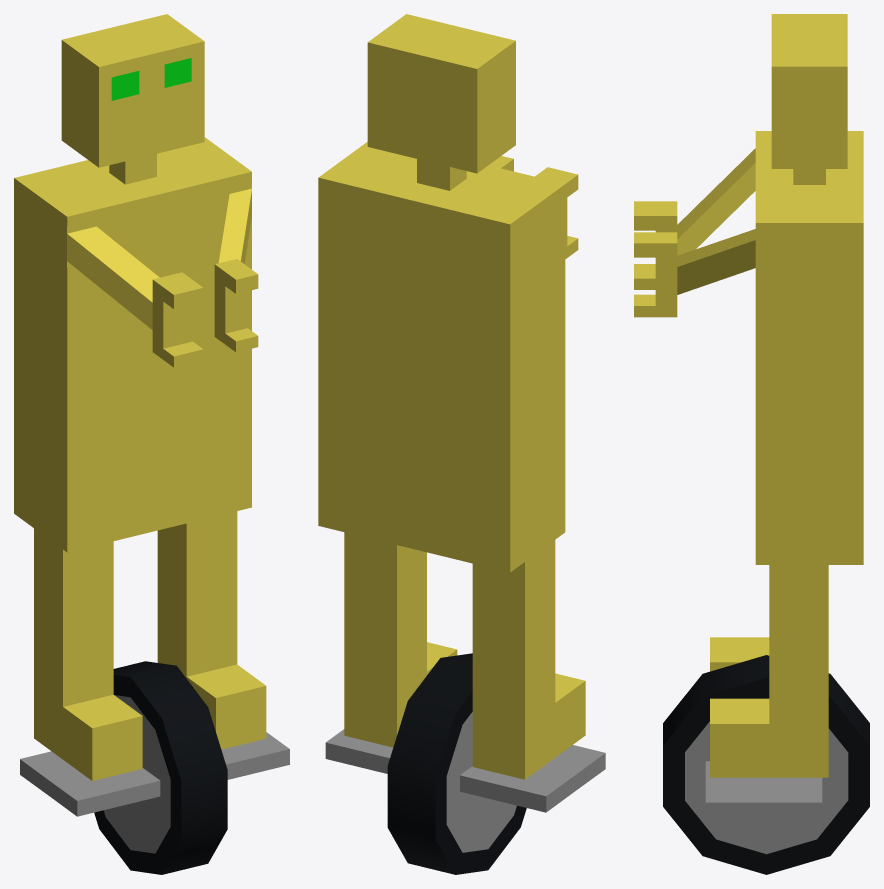
The model's file is segway_one_002.FBX.
The picture shows the model from 3 angles, left to right: view 1: azimuth 30°, elevation 25°; view 2: azimuth 150°, elevation 25°; view 3: azimuth 270°, elevation 25°; orthographic projection. The views are drawn at different scales.
Visible parts, largest first — view 1: SegBody, SegTire, SegRLeg_L, SegRLeg_R; view 2: SegBody, SegTire, SegRLeg_L, SegRLeg_R; view 3: SegBody, SegTire, SegRLeg_R, SegRLeg_L.
Boxes of the visible parts, x1,y1,x2,y2 form: SegBody: (14, 14, 258, 552); SegTire: (20, 661, 289, 874); SegRLeg_L: (34, 528, 142, 780); SegRLeg_R: (157, 511, 266, 749); SegBody: (318, 14, 578, 572); SegTire: (325, 653, 605, 874); SegRLeg_L: (472, 540, 585, 779); SegRLeg_R: (344, 532, 457, 747); SegBody: (634, 14, 863, 564); SegTire: (663, 655, 869, 874); SegRLeg_R: (710, 565, 828, 777); SegRLeg_L: (710, 637, 769, 671).
Size of the model in its own units: 9.06 by 32.91 by 8.54.
